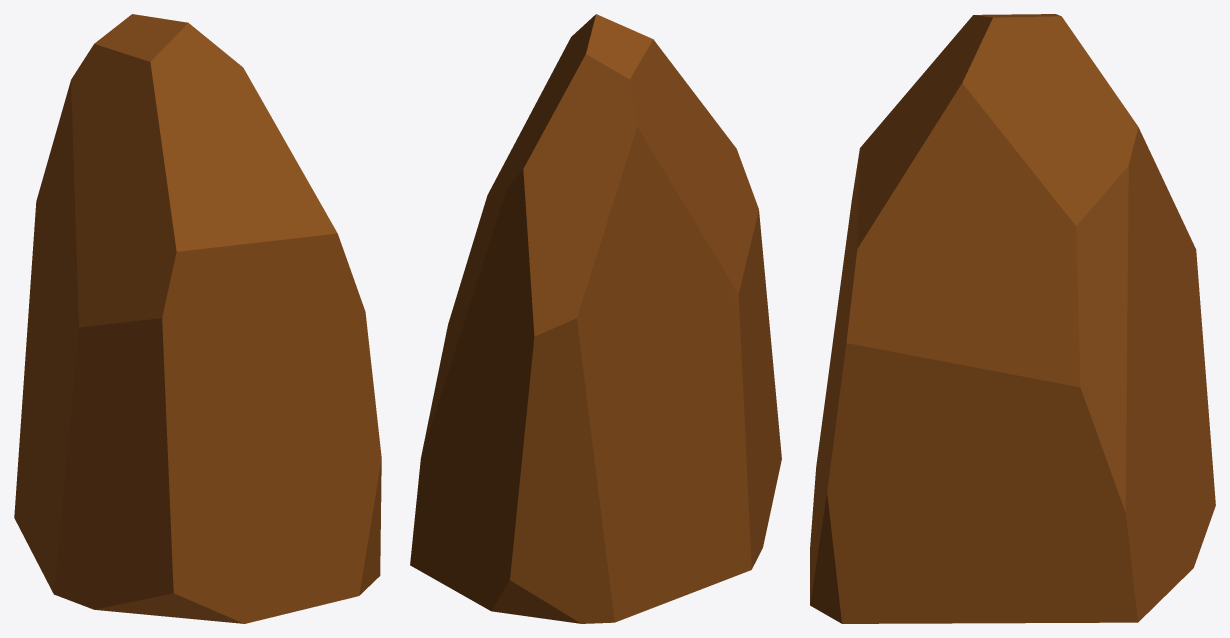
The model's file is HardRock_50.fbx.
3 views of the same model, side by side, from view 1: azimuth 30°, elevation 25°; view 2: azimuth 150°, elevation 25°; view 3: azimuth 270°, elevation 25° (orthographic). The views are drawn at different scales.
Parts seen in each view (by area): view 1: HardRock_50; view 2: HardRock_50; view 3: HardRock_50.
Boxes of the visible parts, x1,y1,x2,y2 form: HardRock_50: (14, 14, 381, 623); HardRock_50: (410, 14, 781, 623); HardRock_50: (810, 14, 1215, 623).
Bounding box in the file's own units: 60.65 × 116 × 78.15.
